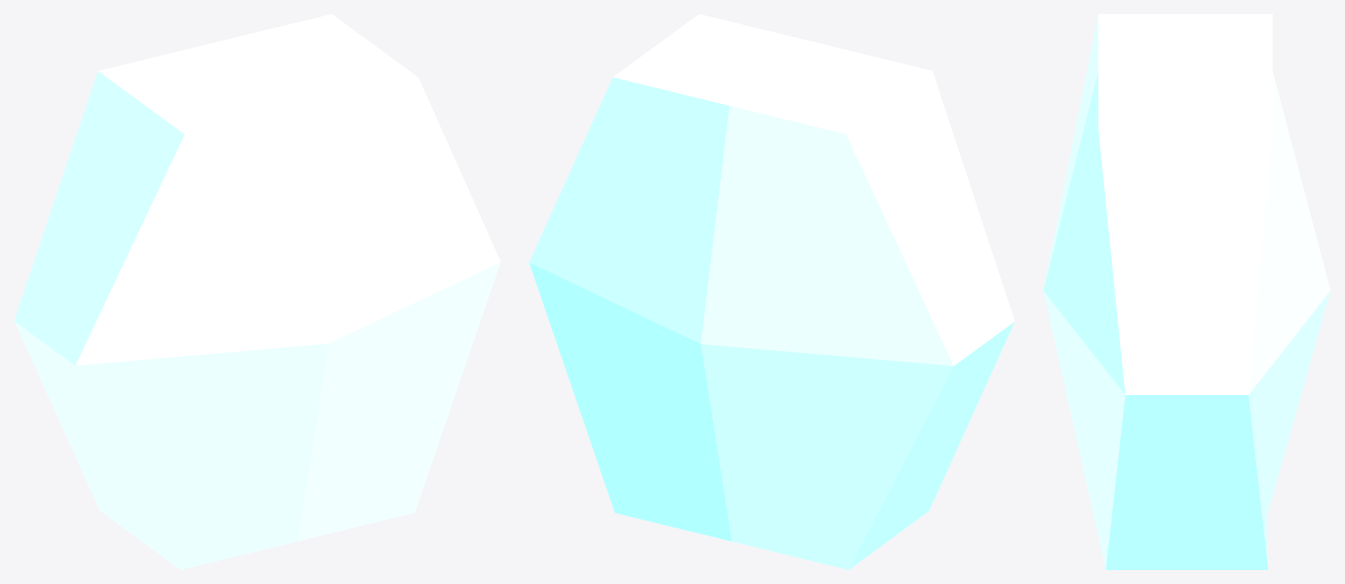
Rendered from EXO_LICHT.glb.
3 views of the same model, side by side, from view 1: azimuth 30°, elevation 25°; view 2: azimuth 150°, elevation 25°; view 3: azimuth 270°, elevation 25° (orthographic).
Size of the model in its own units: 0.1336 by 0.1315 by 0.0776.
